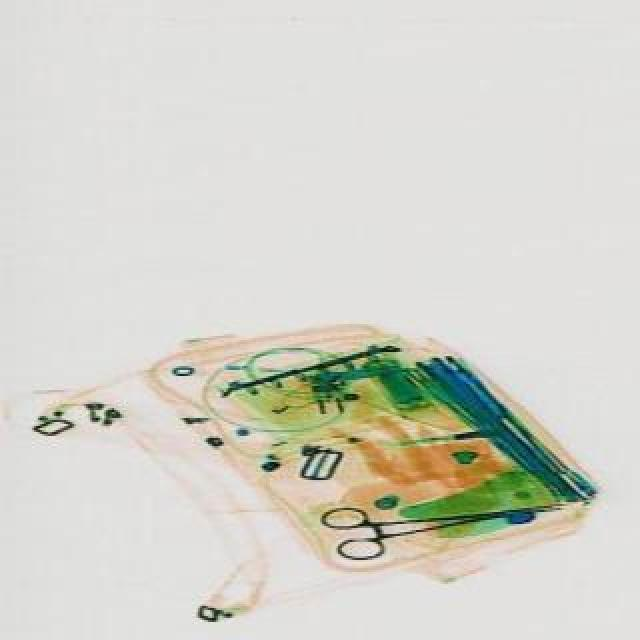pliers: (318, 480, 564, 564)
